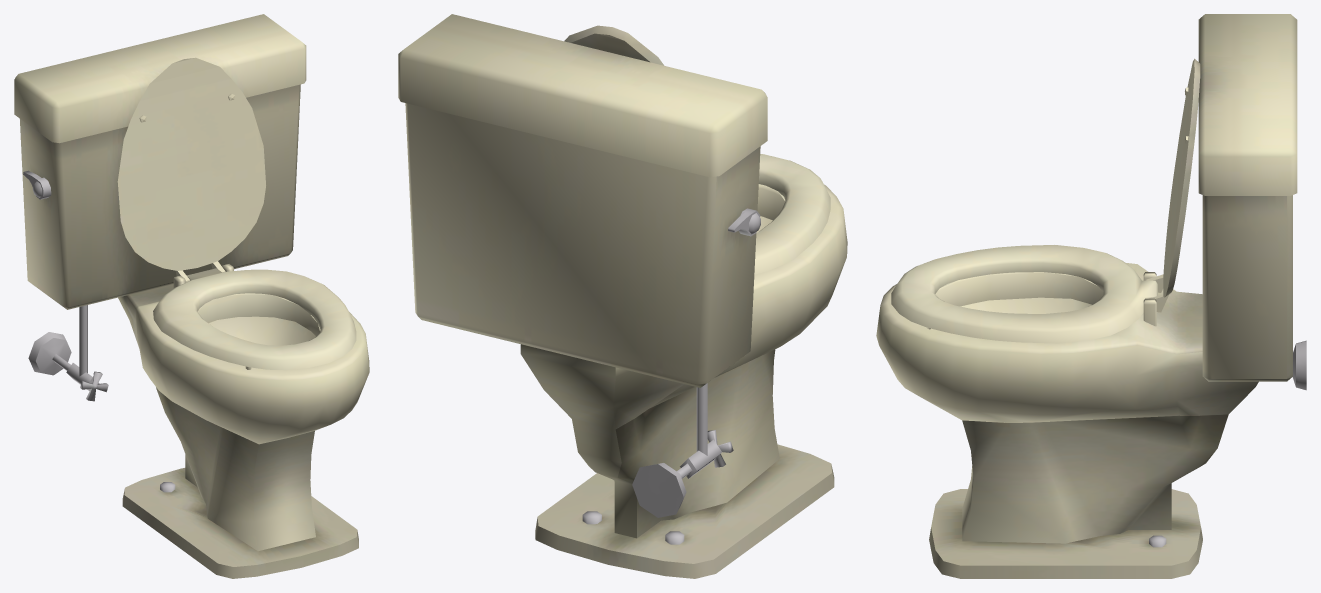
File: ToiletCheap.obj
The picture shows the model from 3 angles, left to right: view 1: azimuth 30°, elevation 25°; view 2: azimuth 150°, elevation 25°; view 3: azimuth 270°, elevation 25°; orthographic projection. The views are drawn at different scales.
Visible parts, largest first — view 1: ToiletCheap; view 2: ToiletCheap; view 3: ToiletCheap.
Part boxes in pixels (x1=…): ToiletCheap: x1=14, y1=14, x2=369, y2=578; ToiletCheap: x1=398, y1=14, x2=847, y2=578; ToiletCheap: x1=876, y1=14, x2=1306, y2=578.
Size of the model in its own units: 0.5541 by 0.861 by 0.7049.
Materials: 2 (2 with a texture image).
